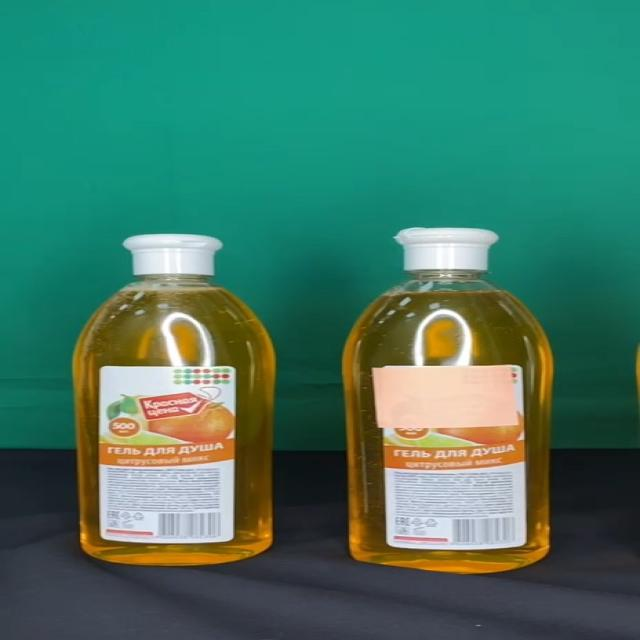Bottle: (343, 226, 555, 574), (74, 232, 278, 564)
Cap: (396, 226, 498, 271), (124, 232, 222, 277)
